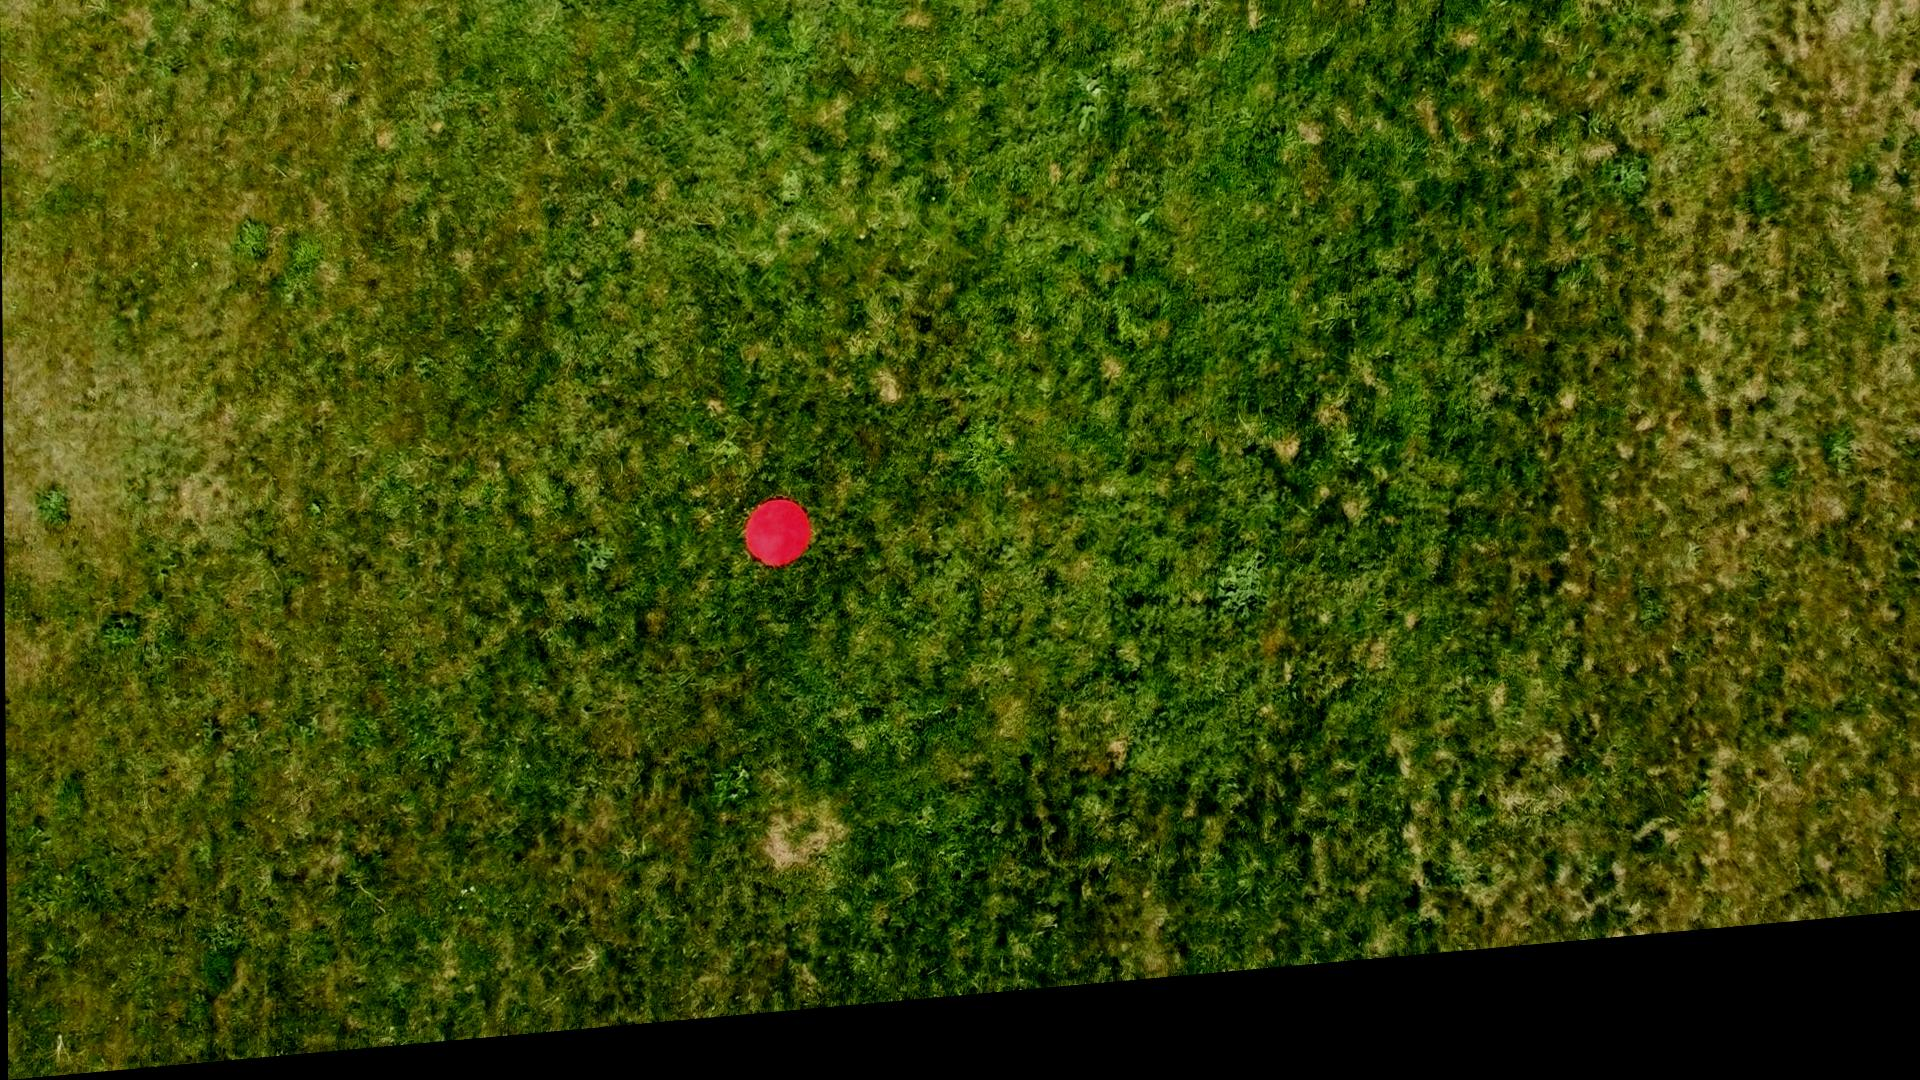Red: (740, 508, 812, 585)
